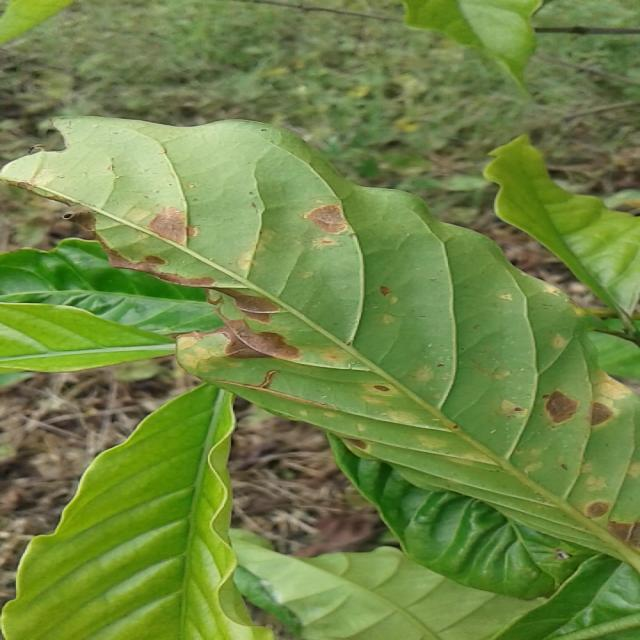Enfermedad-Roya: (0, 118, 640, 564)
